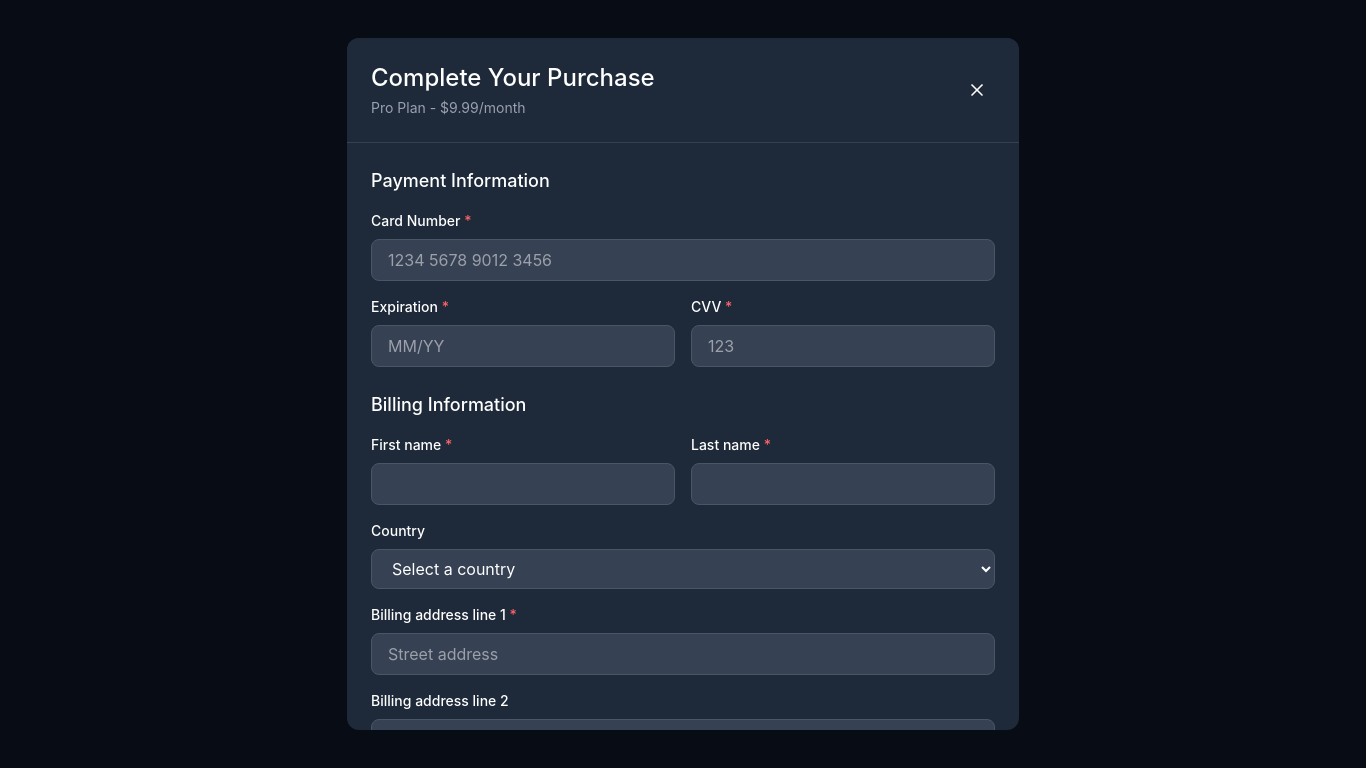
it: PaymentDialog › should format card number with spaces
Type "1234567890123456" into the field with placeholder "1234 5678 9012 3456" at (683,260), box [371,239,995,281]
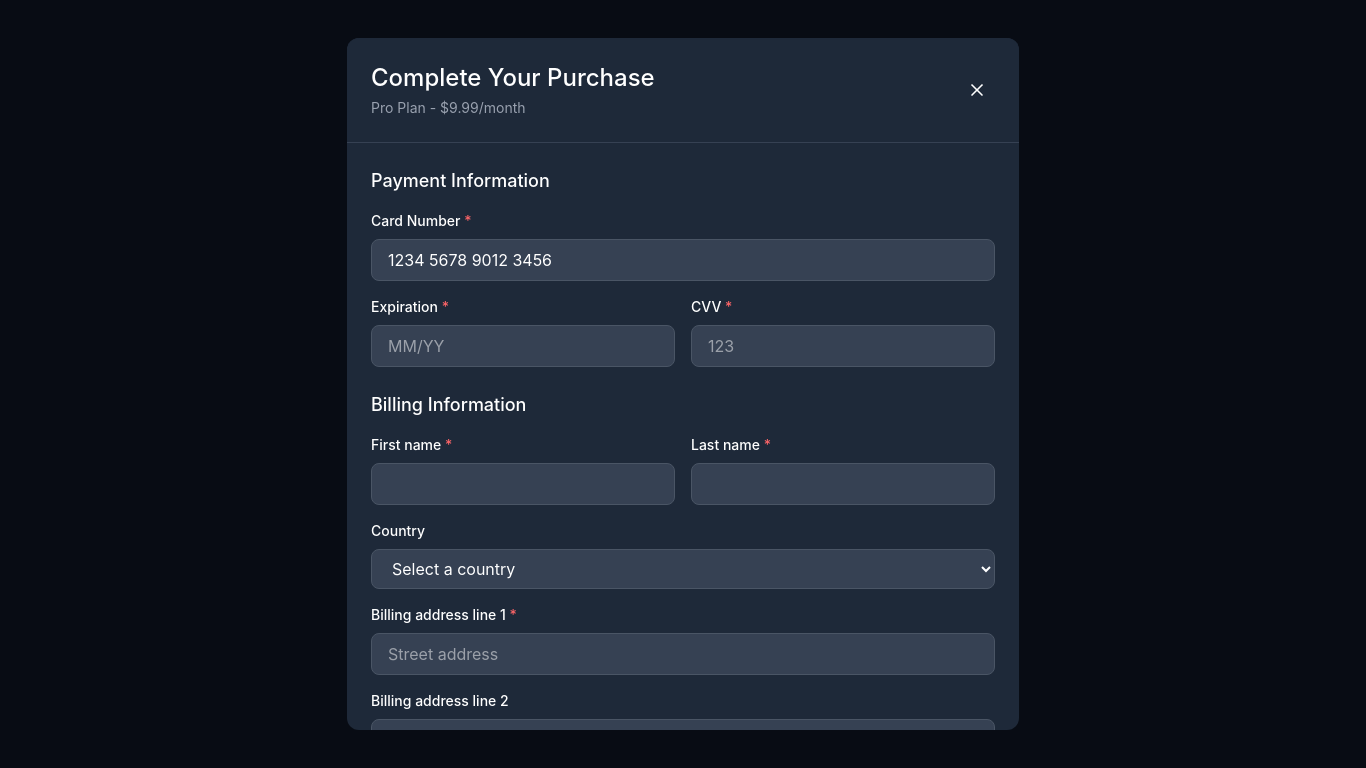
Now the field with placeholder "1234 5678 9012 3456" below "Card Number" holds "1234 5678 9012 3456", box [371,239,995,281]
